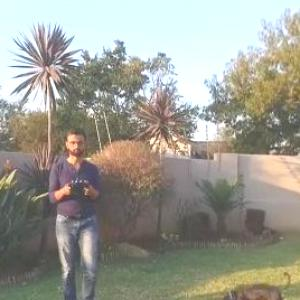follow: (45, 123, 104, 299)
null: (207, 267, 293, 299)
